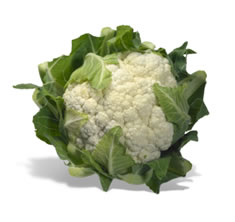cauliflower: (10, 23, 211, 196)
